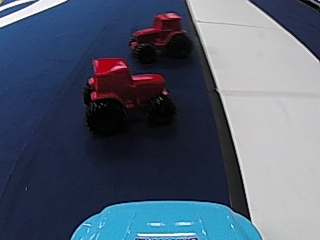Tracktor: (81, 53, 175, 136), (128, 10, 191, 63)
